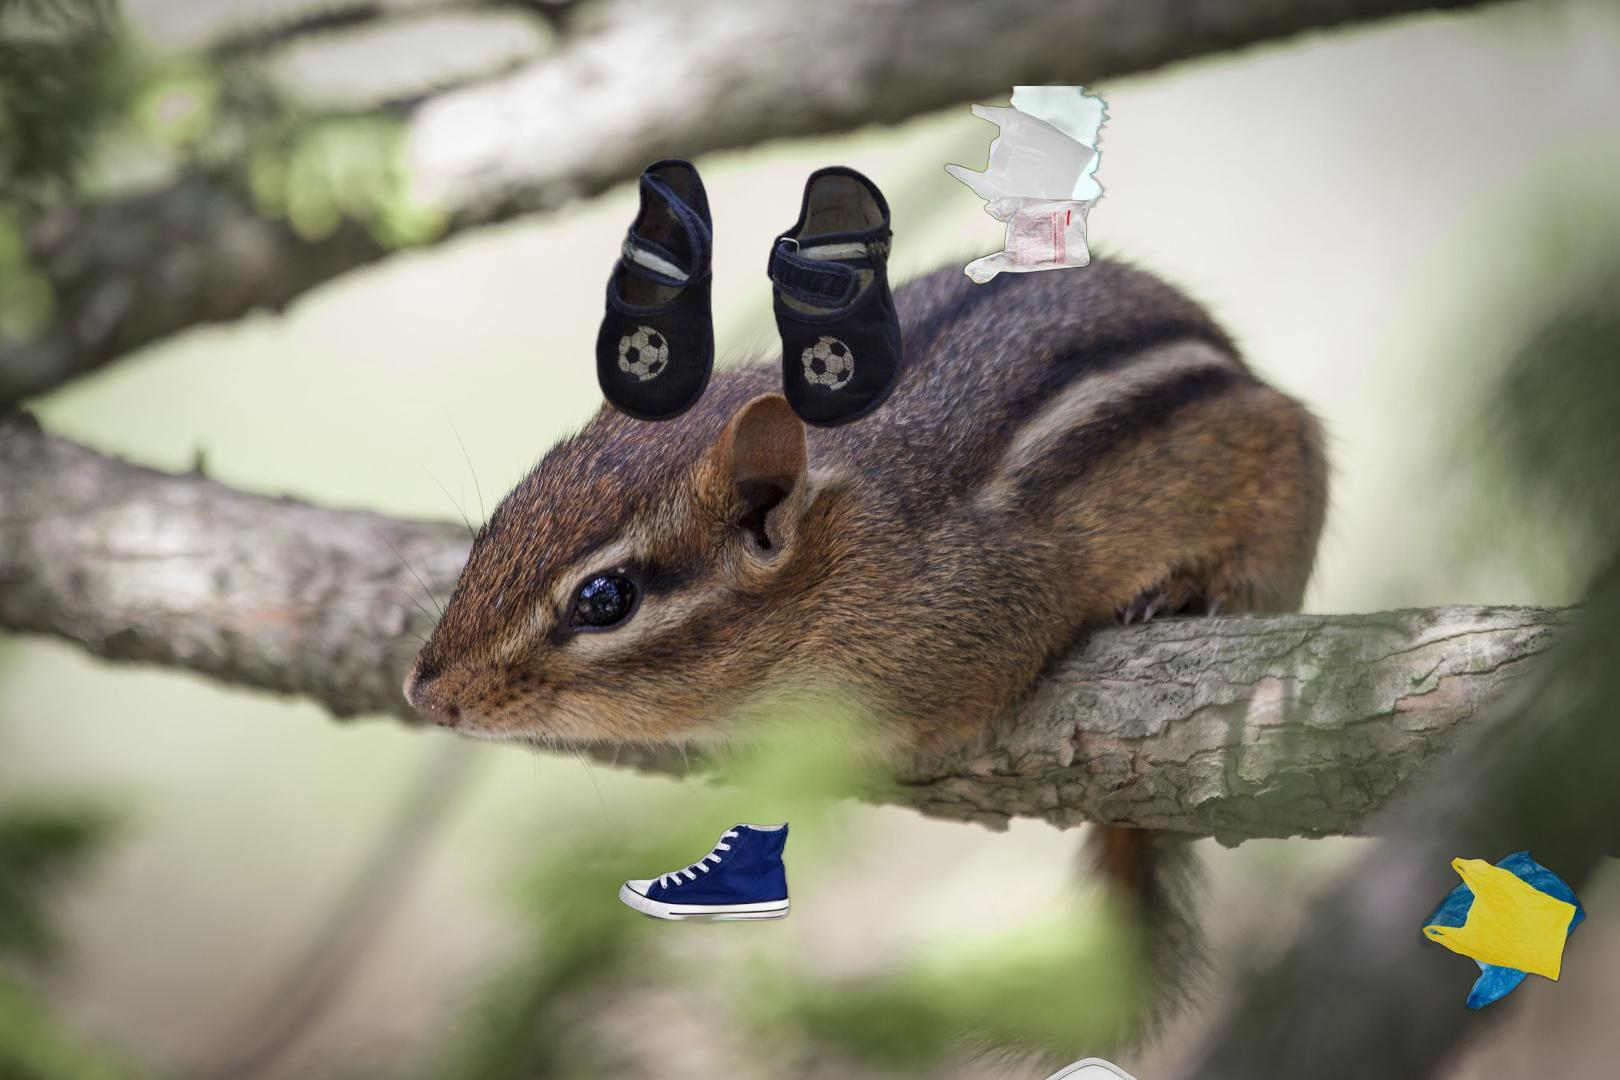plastic-bag: (941, 86, 1114, 287), (1416, 846, 1589, 1014)
shoes: (592, 153, 905, 433), (616, 820, 794, 926)
trash: (994, 1053, 1199, 1080)
